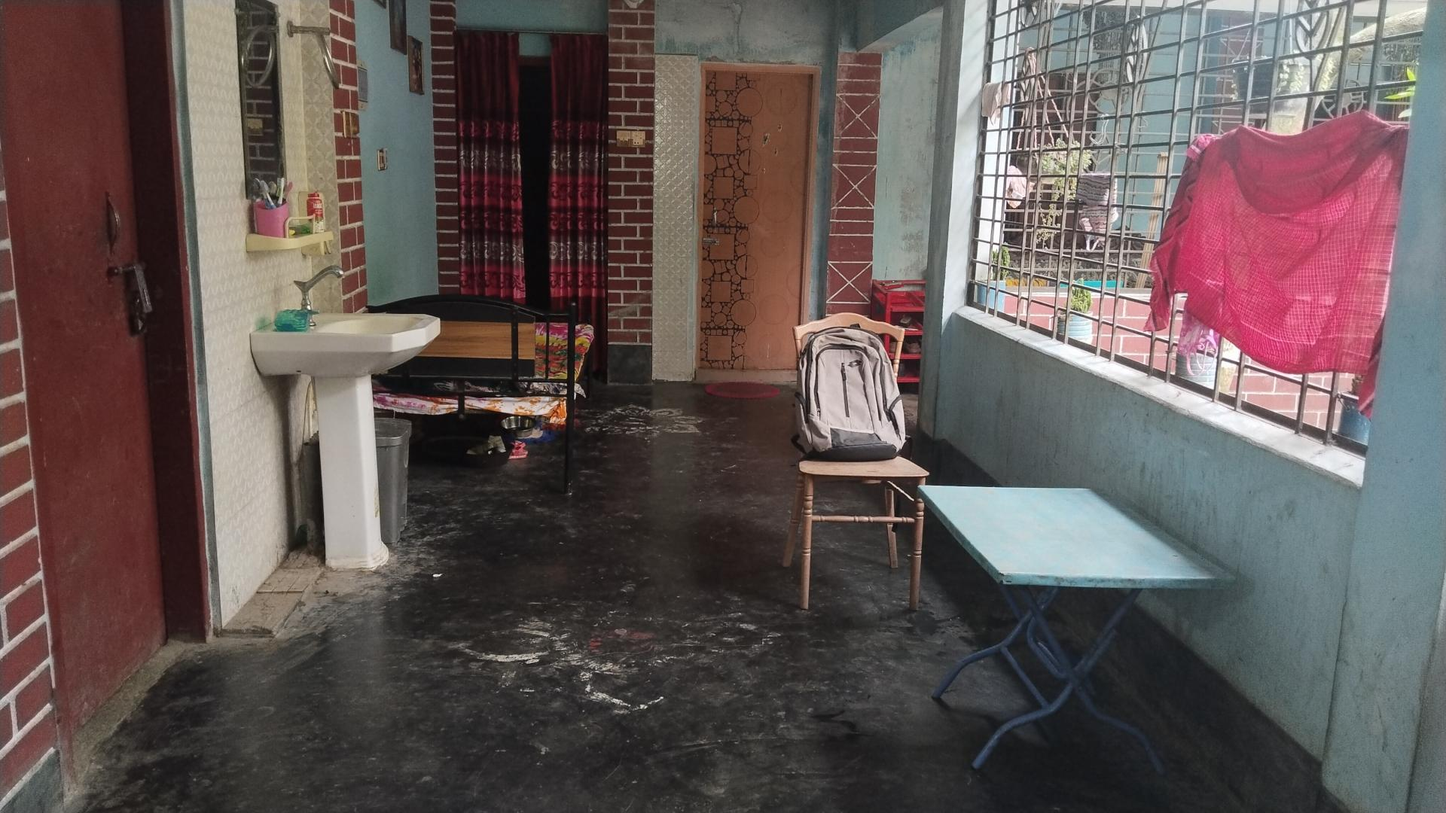Bag: (796, 329, 905, 464)
Chair: (791, 314, 925, 590)
Door: (697, 69, 810, 374)
Table: (913, 483, 1236, 764)
